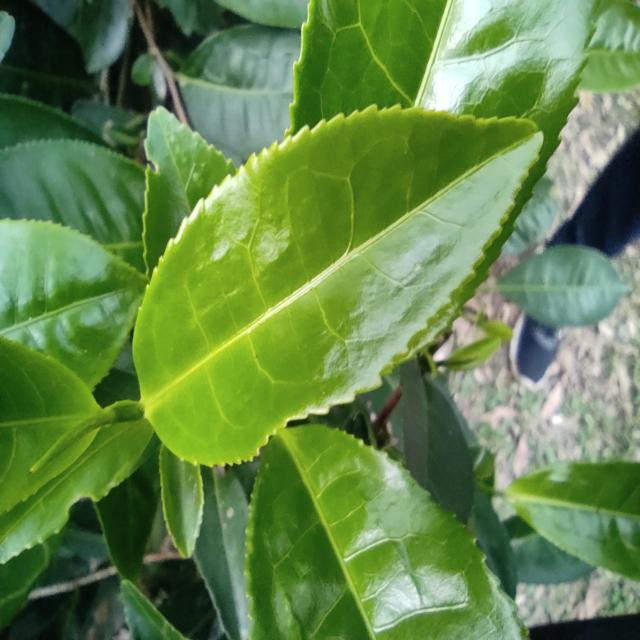Category C(4-7 days): (105, 49, 555, 488)
